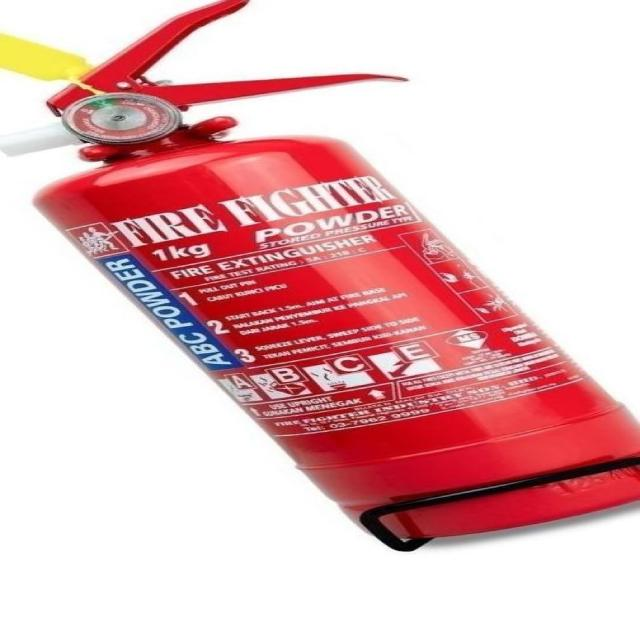fire_extinguisher: (0, 0, 638, 551)
